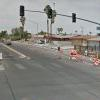Traffic light: (15, 5, 28, 19)
